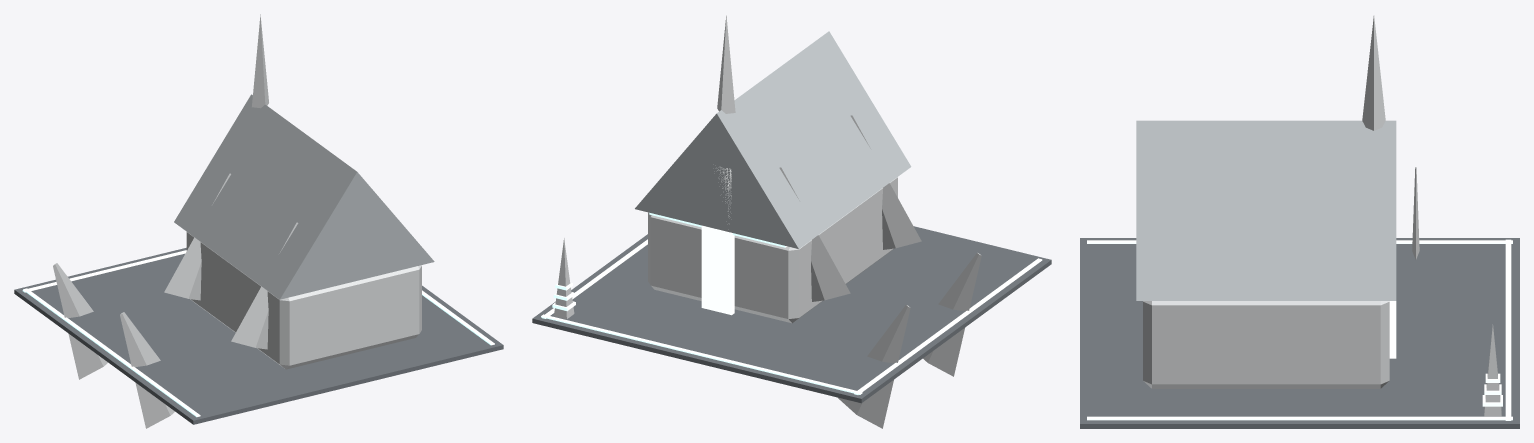
File: zone_low_5_t3.glb
3 views of the same model, side by side, from view 1: azimuth 30°, elevation 25°; view 2: azimuth 150°, elevation 25°; view 3: azimuth 270°, elevation 25° (orthographic). The views are drawn at different scales.
Parts seen in each view (by area): view 1: zone_low_5_t3, detail; view 2: zone_low_5_t3, detail; view 3: zone_low_5_t3, detail.
Boxes of the visible parts, bbox=[...] form: zone_low_5_t3: bbox=[14, 14, 503, 428]; detail: bbox=[22, 250, 494, 417]; zone_low_5_t3: bbox=[532, 15, 1051, 428]; detail: bbox=[541, 212, 1042, 394]; zone_low_5_t3: bbox=[1080, 15, 1519, 428]; detail: bbox=[1087, 239, 1512, 420].
Bounding box in the file's own units: 19.85 × 20.43 × 19.6.
